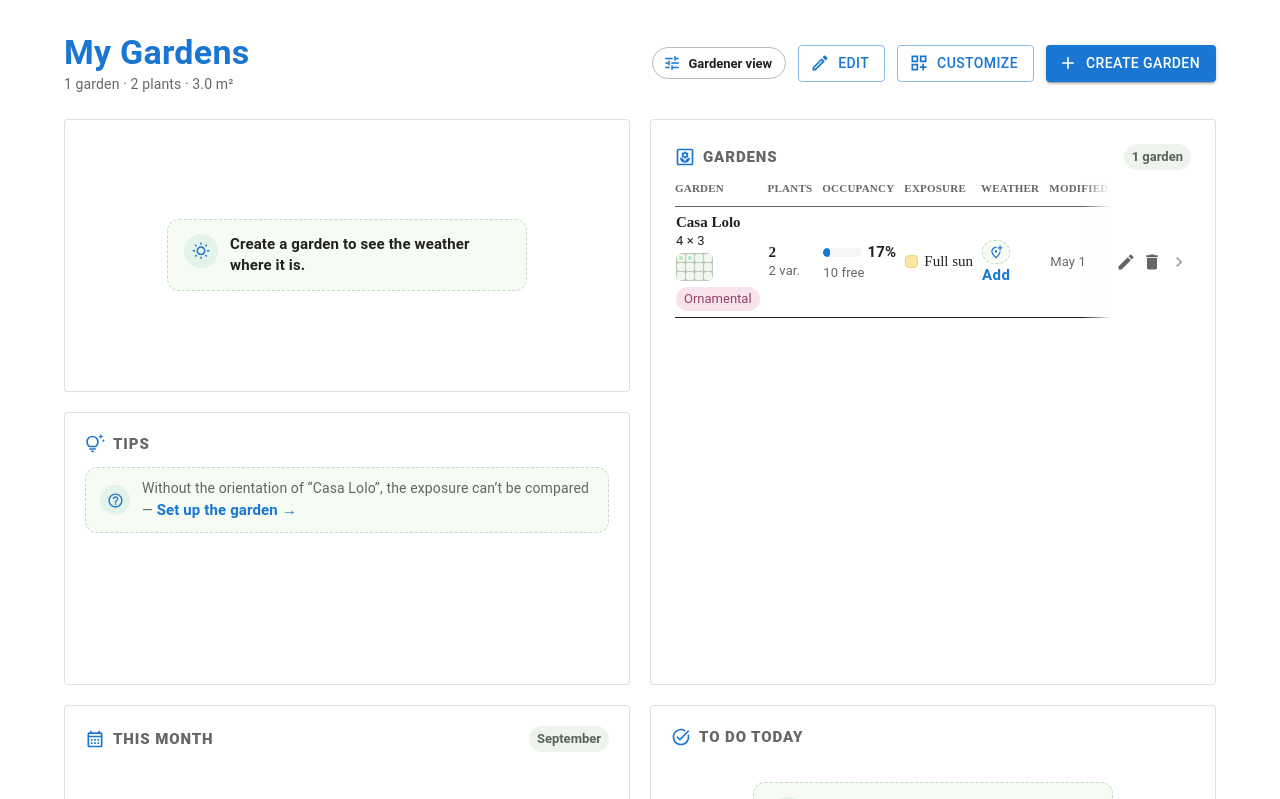
Test: Gardens widget delete flow (SMA-18 lot 1, moved by SMA-336) › Cancel closes without deleting
expect the link "Casa Lolo" is shown: met, box [676,214,741,230]
Click the button named "Delete Casa Lolo".
click(1152, 262)  # box [1139,249,1165,275]
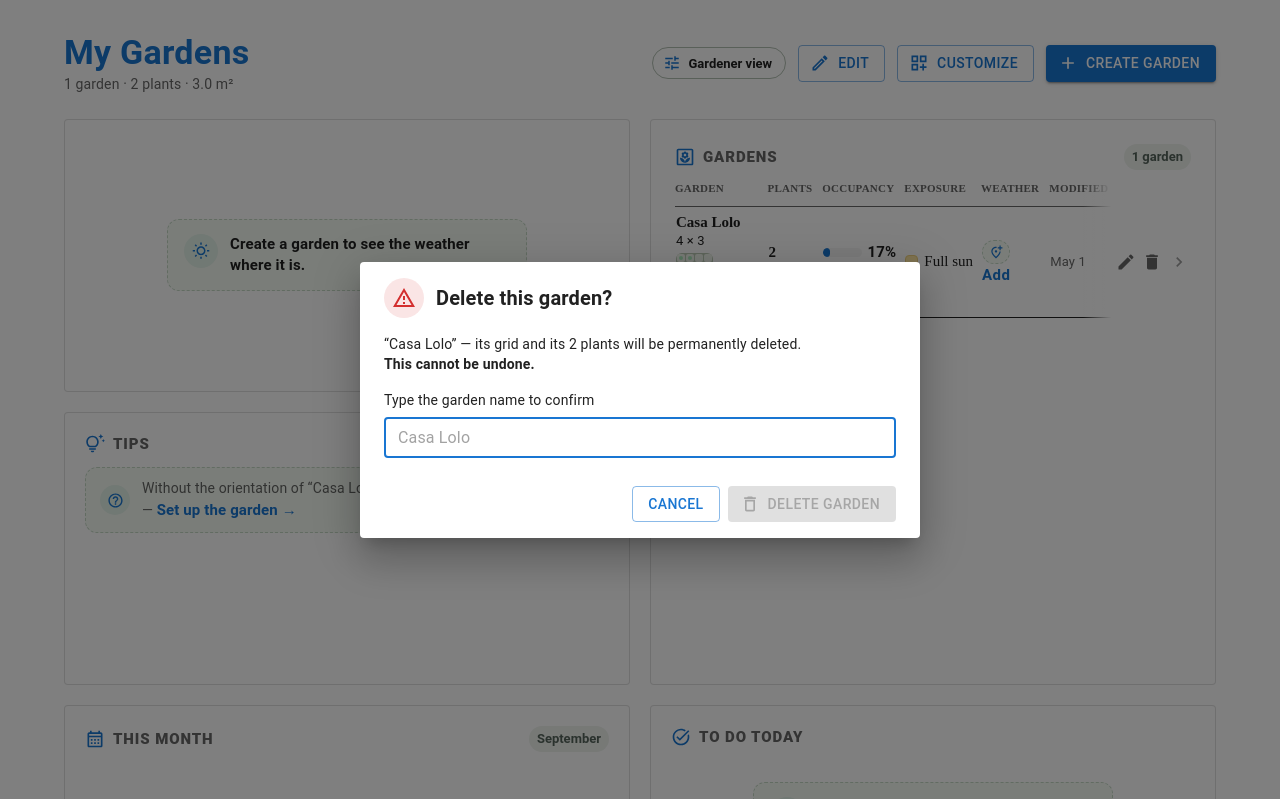
Click the button "Cancel".
click(676, 504)  # box [632,486,720,522]
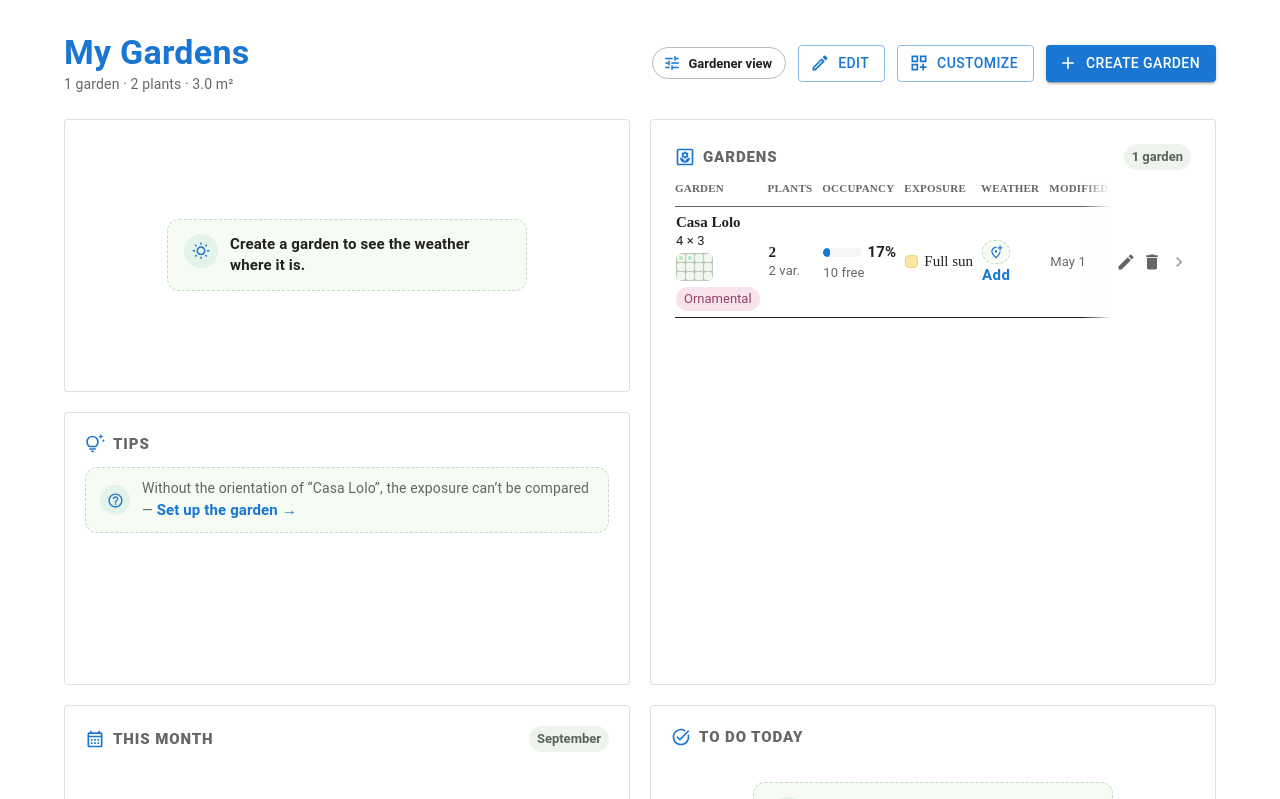
expect the link "Casa Lolo" is shown: met, box [676,214,741,230]
expect the heading "Delete this garden?" is gone: met
